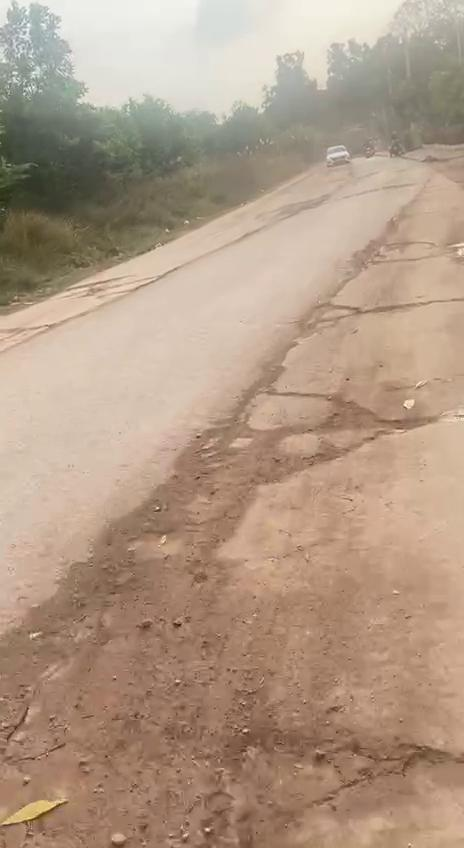pothole: (214, 381, 443, 491)
